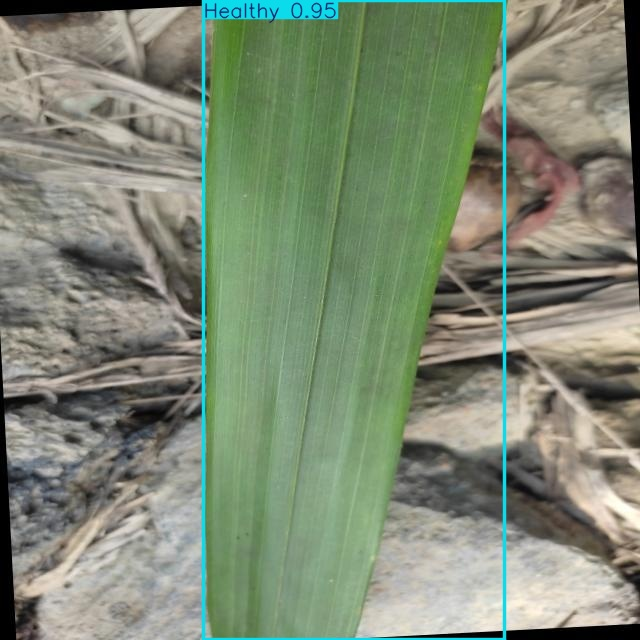Healthy: (203, 0, 505, 640)
